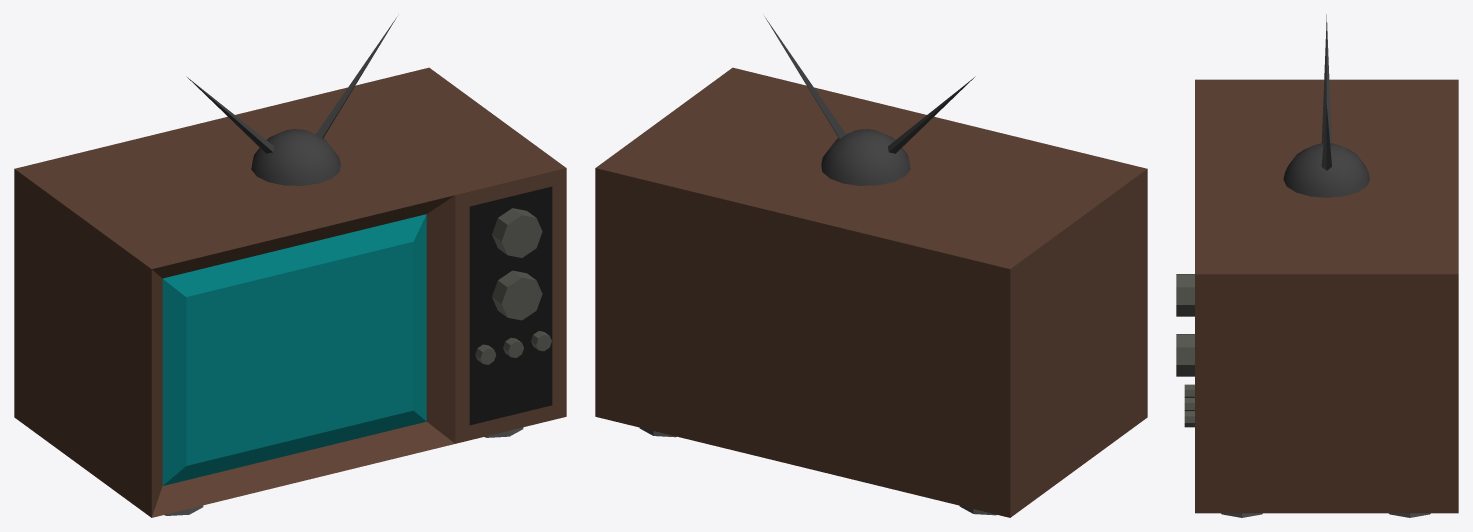
The model's file is FatTV.fbx.
3 renders of one model, left to right at view 1: azimuth 30°, elevation 25°; view 2: azimuth 150°, elevation 25°; view 3: azimuth 270°, elevation 25°, orthographic. The views are drawn at different scales.
Visible parts, largest first — view 1: FatTVBody, FatTVScreen, TVPanel, Top, Button.001, Button.005, Radar, Radar.001; view 2: FatTVBody, Top, Radar, Radar.001; view 3: FatTVBody, Top, Button.001, Button.005, Radar.001, Radar.
Part boxes in pixels (x1,y1,x2,y2): FatTVBody: (14,67,566,517); FatTVScreen: (162,214,426,485); TVPanel: (469,186,552,425); Top: (251,129,340,185); Button.001: (492,208,542,257); Button.005: (492,270,542,320); Radar: (315,16,397,138); Radar.001: (186,76,273,153); FatTVBody: (595,67,1147,517); Top: (821,129,910,185); Radar: (764,16,846,138); Radar.001: (888,76,975,153); FatTVBody: (1195,79,1458,513); Top: (1283,143,1369,197); Button.001: (1176,274,1194,316); Button.005: (1176,334,1194,376); Radar.001: (1321,14,1331,143); Radar: (1321,105,1331,170).
Bounding box in the file's own units: 63.87 × 57.7 × 39.19.
